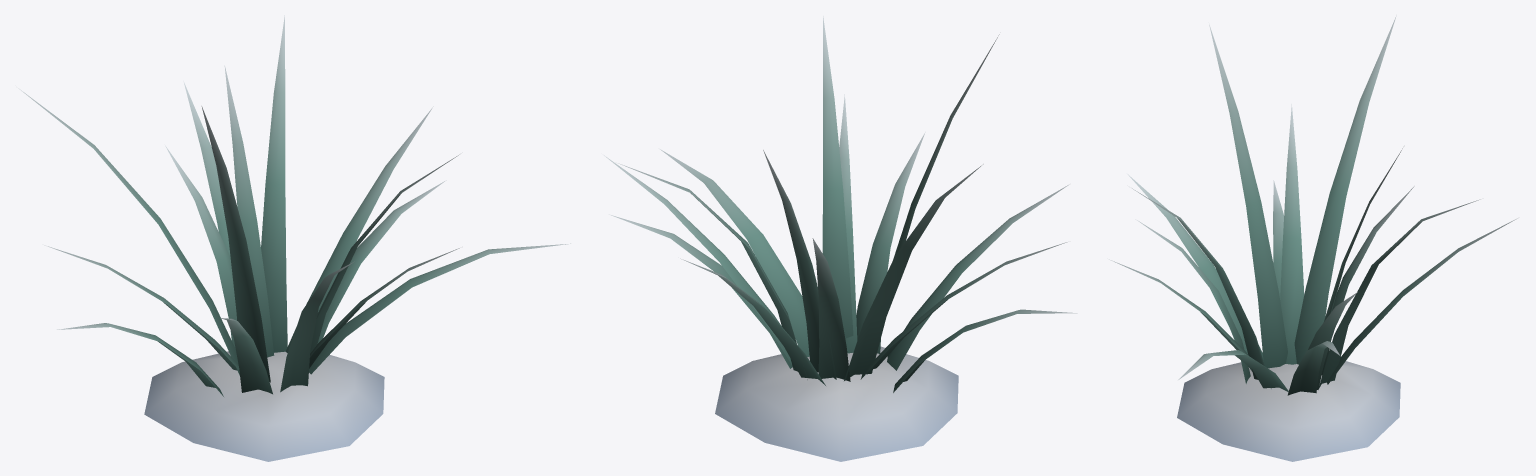
Rendered from snow_grass.glb.
3 renders of one model, left to right at view 1: azimuth 30°, elevation 25°; view 2: azimuth 150°, elevation 25°; view 3: azimuth 270°, elevation 25°, orthographic. The views are drawn at different scales.
Parts seen in each view (by area): view 1: snow_grass; view 2: snow_grass; view 3: snow_grass.
Boxes of the visible parts, x1,y1,x2,y2 form: snow_grass: (18, 15, 570, 461); snow_grass: (604, 16, 1077, 461); snow_grass: (1109, 15, 1517, 461).
Bounding box in the file's own units: 0.5618 × 0.4127 × 0.4621.
